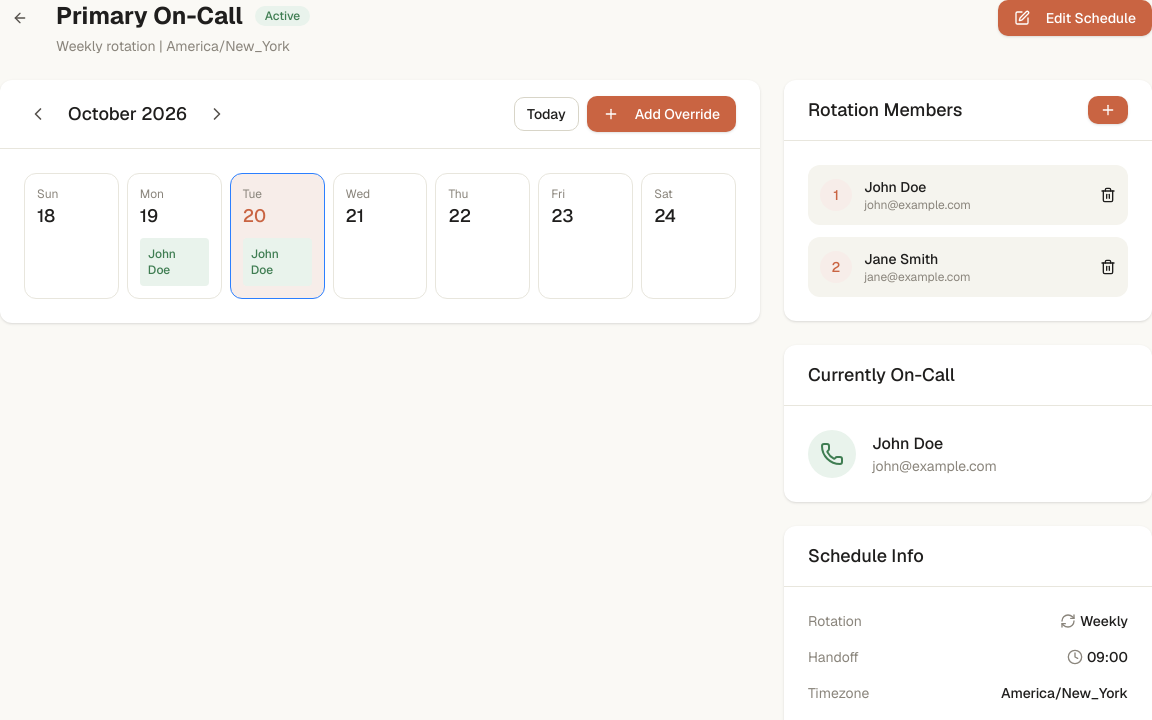
ScheduleEditorPage › rotation members › should open add member modal
Expected: the heading "Primary On-Call" is shown, top-left (56, 0), bottom-right (243, 32)
What coordinates should you click on to do the following:
click the button without text next to "Rotation Members"
I would click on:
 (1108, 110)
Its box is top-left (1088, 96), bottom-right (1128, 124).
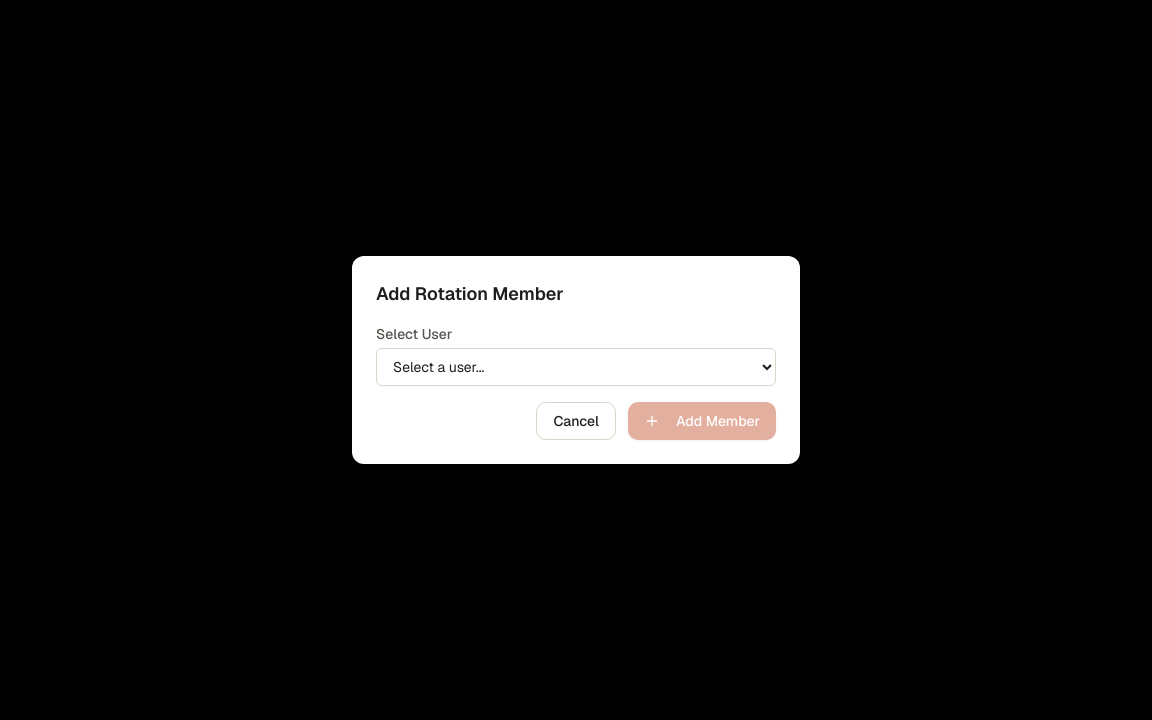
Now the heading "Add Rotation Member" is shown, box top-left (376, 282), bottom-right (564, 305)
